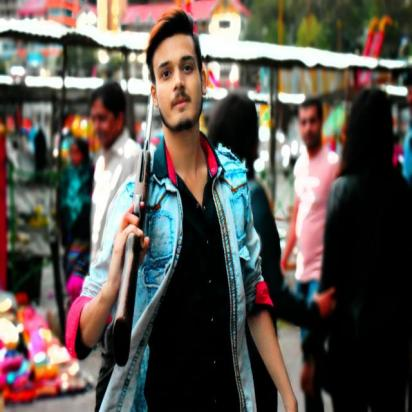Gun: (110, 81, 158, 370)
